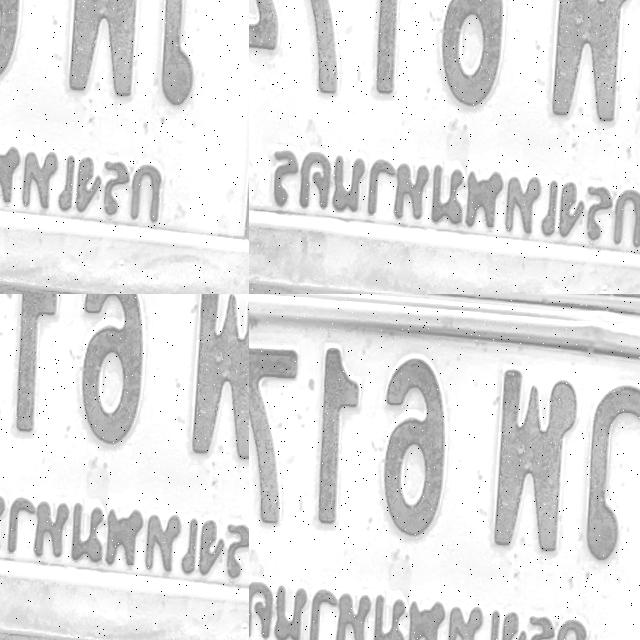license-plate: (249, 294, 640, 640)
